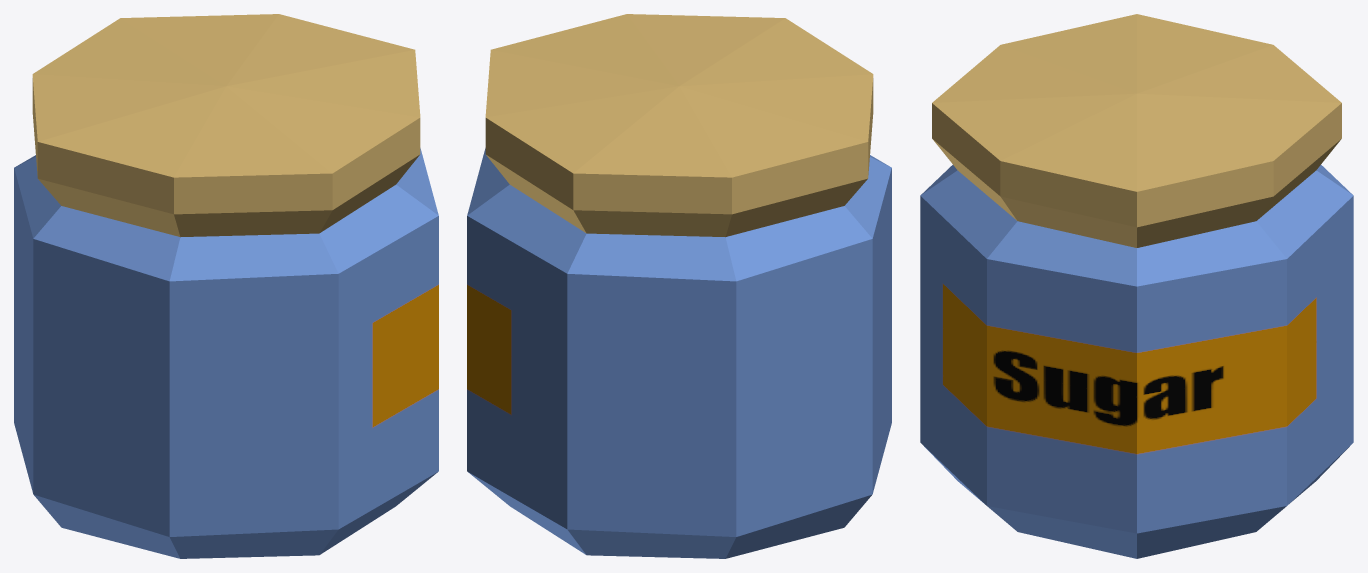
The model's file is Sugar.fbx.
The picture shows the model from 3 angles, left to right: view 1: azimuth 30°, elevation 25°; view 2: azimuth 150°, elevation 25°; view 3: azimuth 270°, elevation 25°; orthographic projection. The views are drawn at different scales.
Parts seen in each view (by area): view 1: Sugar; view 2: Sugar; view 3: Sugar.
Boxes of the visible parts, x1,y1,x2,y2 form: Sugar: (14, 14, 438, 558); Sugar: (467, 14, 891, 558); Sugar: (920, 14, 1353, 558).
Size of the model in its own units: 287 by 285 by 289.
